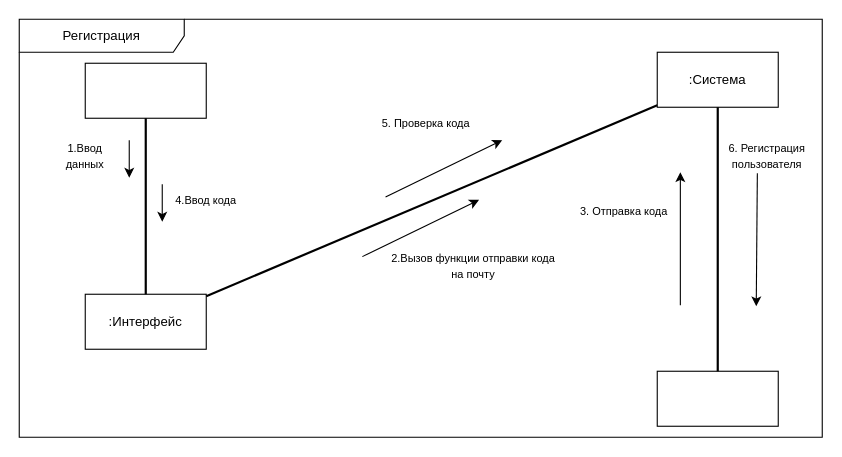
Image size: 842x457. Some labels were removed from this diagram. Here are the shapes that lost their labels. From the top down, the centre of each, then its label:
At (145,90): ":Пользователь".
At (717,398): ":Сервер".
